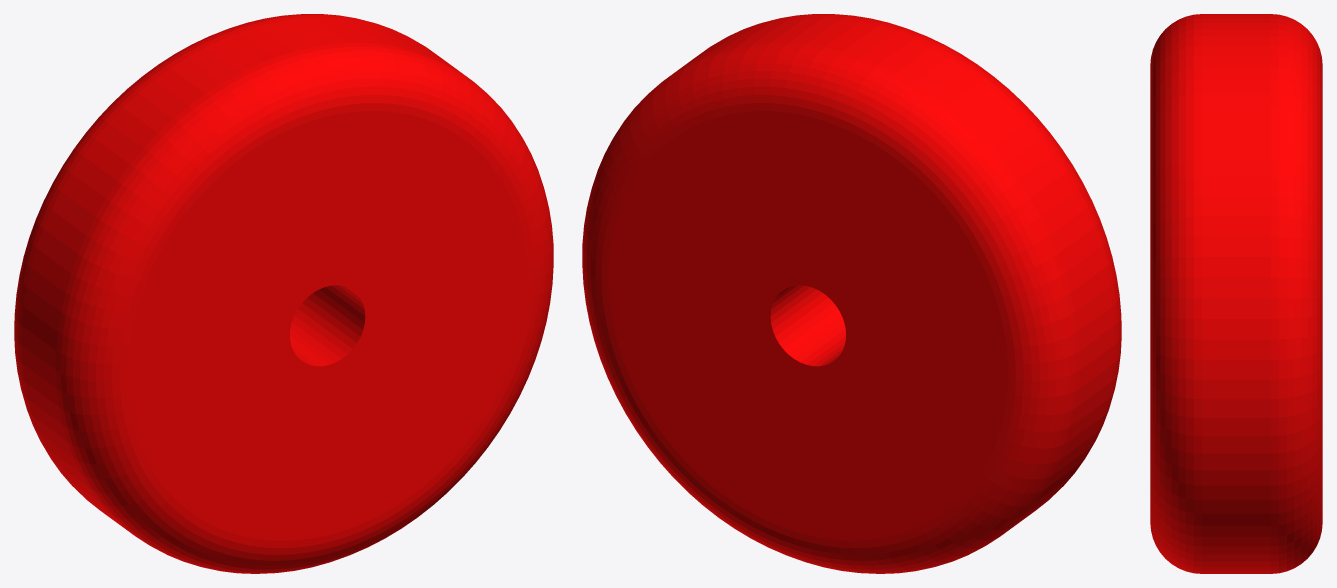
Rendered from bot_Wheel2.dae.
3 views of the same model, side by side, from view 1: azimuth 30°, elevation 25°; view 2: azimuth 150°, elevation 25°; view 3: azimuth 270°, elevation 25° (orthographic).
Parts seen in each view (by area): view 1: Wheel2; view 2: Wheel2; view 3: Wheel2.
Boxes of the visible parts, box(x1,y1,x2,y2) form: Wheel2: box(14, 14, 553, 573); Wheel2: box(582, 14, 1121, 573); Wheel2: box(1150, 14, 1322, 573).
Bounding box in the file's own units: 0.6499 × 0.2 × 0.6498.
